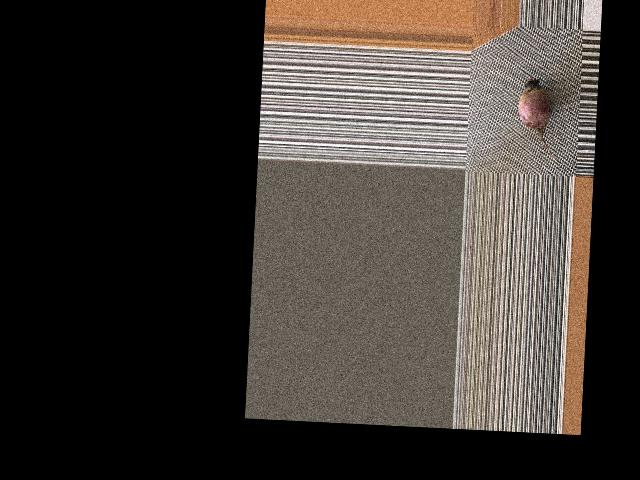beet: (516, 75, 567, 165)
